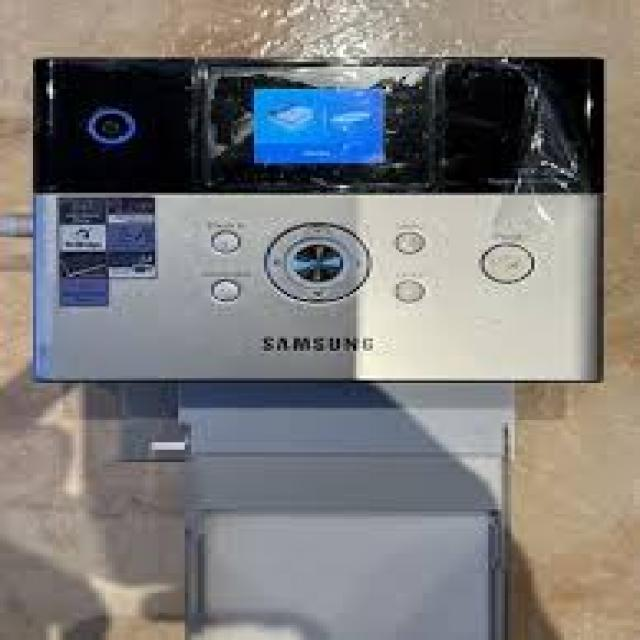printer: (33, 47, 618, 386)
